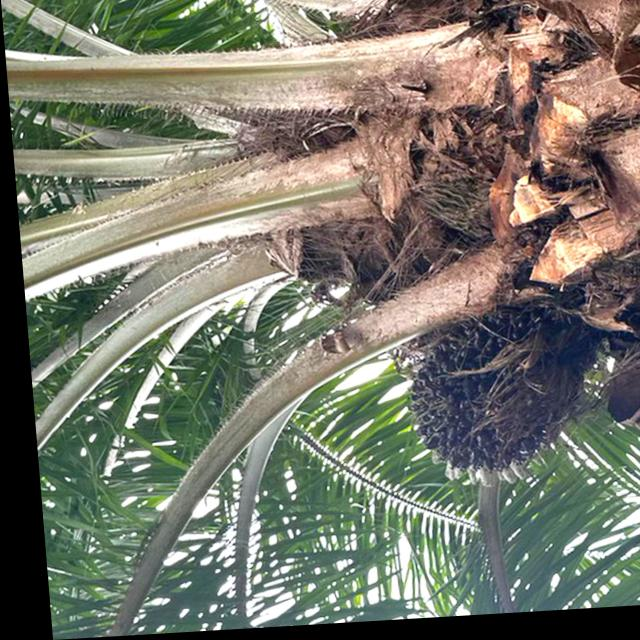unripe: (391, 295, 587, 486)
